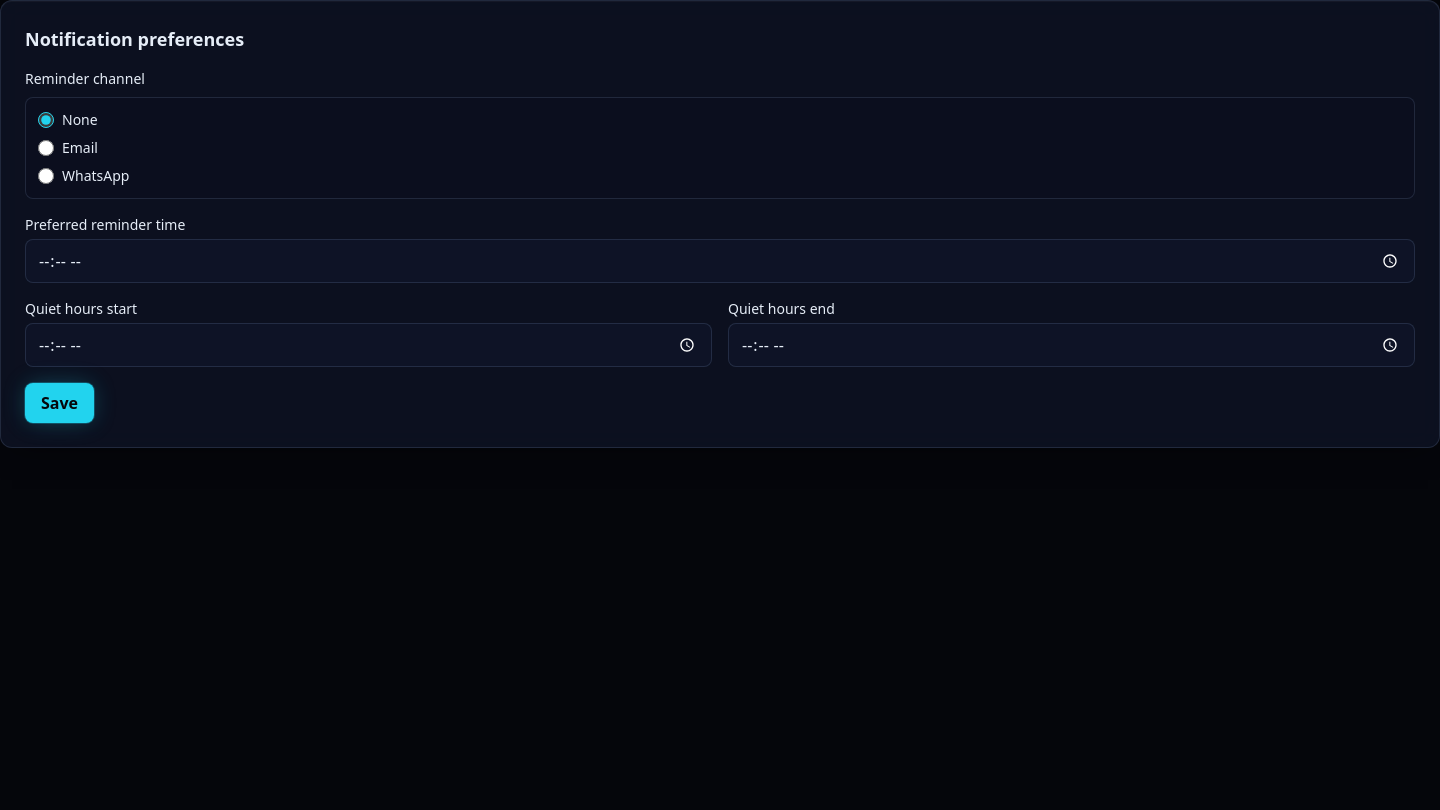
it: NotificationPreferencesForm › only shows the phone field and consent checkbox when whatsapp is selected
Expected: the field labelled "phone" is not shown
Step 1. Click the radio button labelled "WhatsApp" → coordinates (46, 176), box [38,168,54,184]
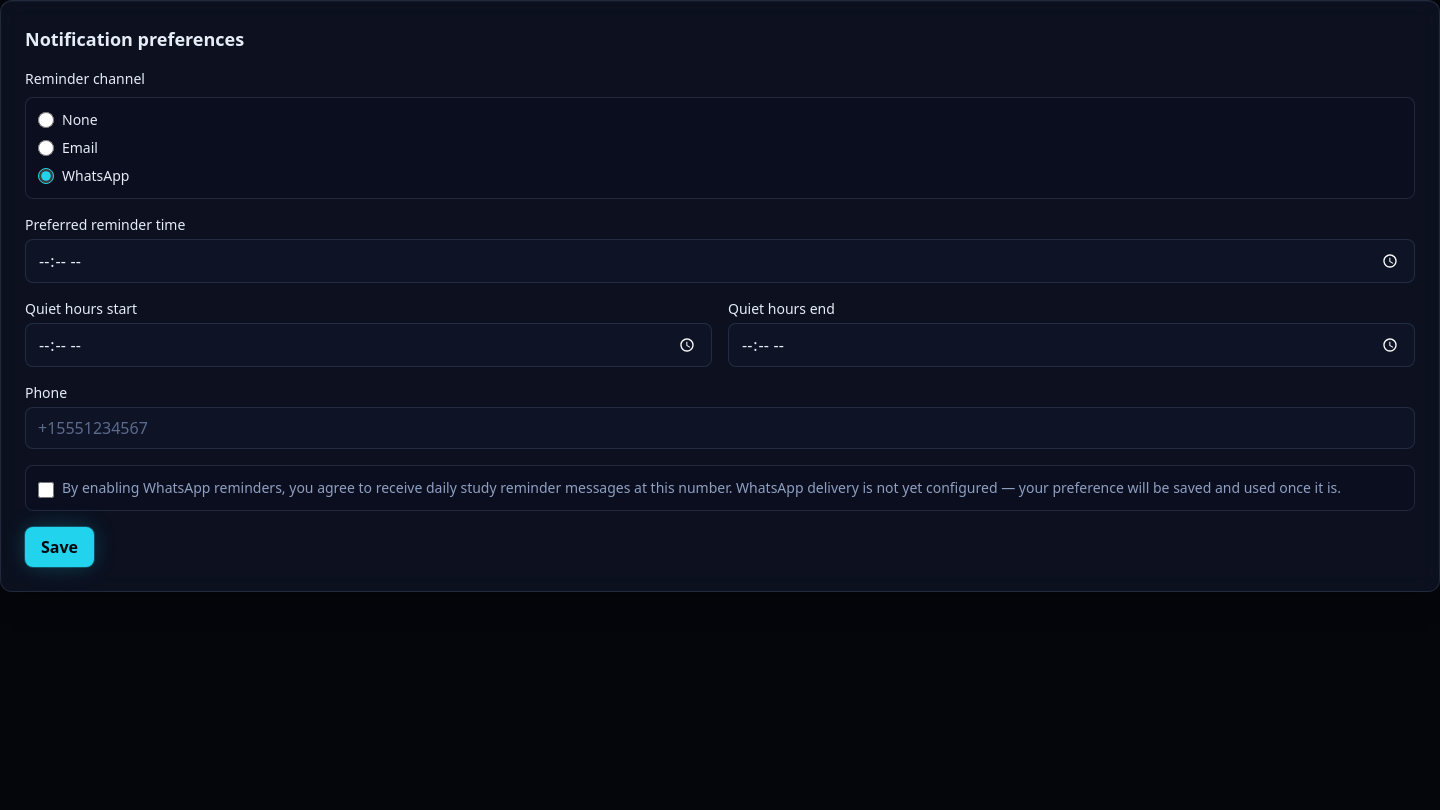
Result: the field labelled "Phone" is shown at [25,407,1415,449]
Result: the text "By enabling WhatsApp reminders" is shown at [62,478,1341,497]
